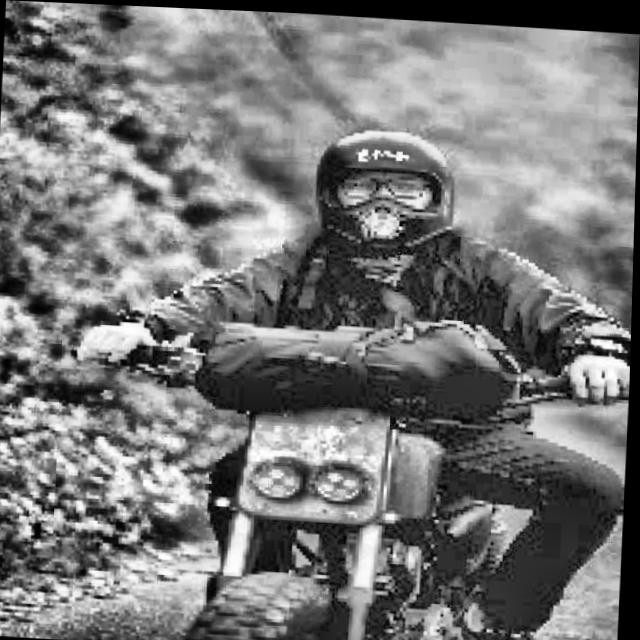motorcycle: (31, 283, 633, 640)
